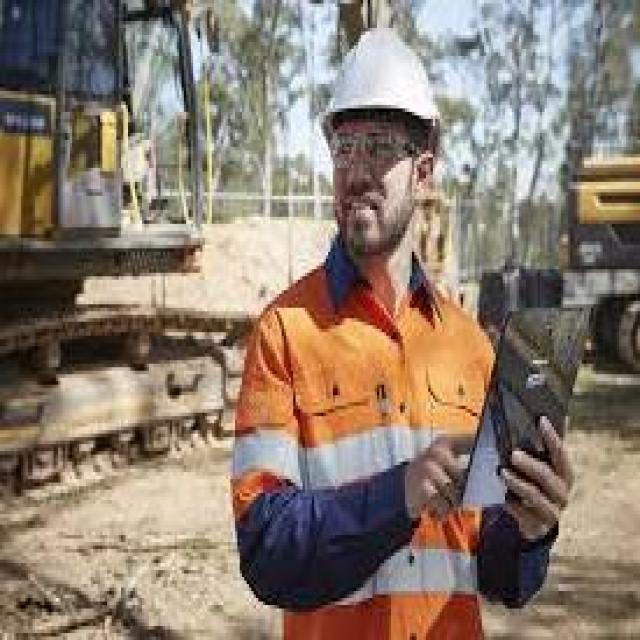Reflective-Jacket: (228, 259, 500, 633)
Safety-Helmet: (314, 21, 459, 154)
